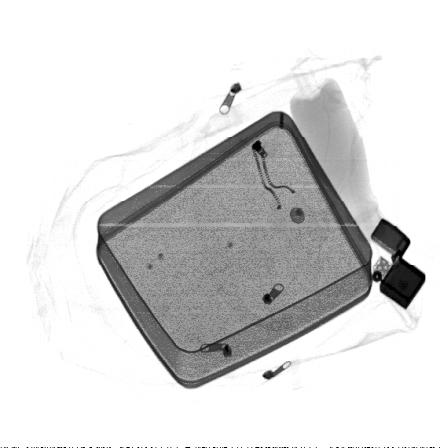Lighter: (370, 217, 428, 311)
